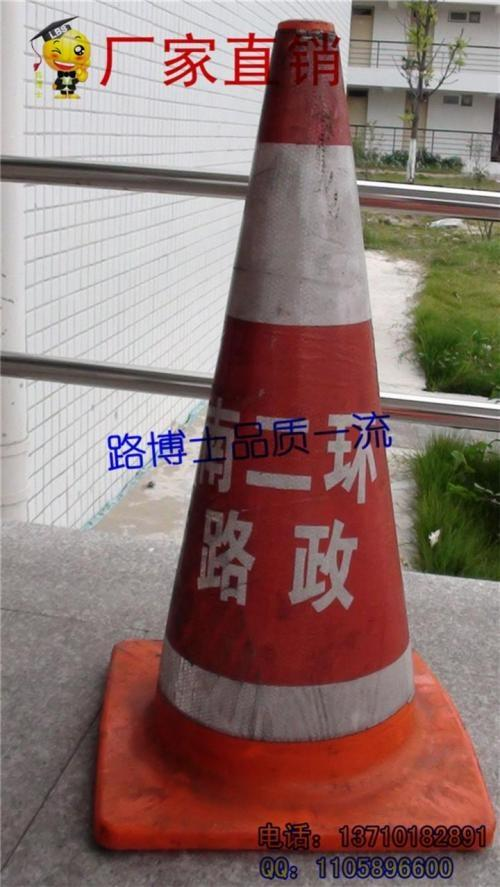cone_barrel: (155, 22, 435, 832)
